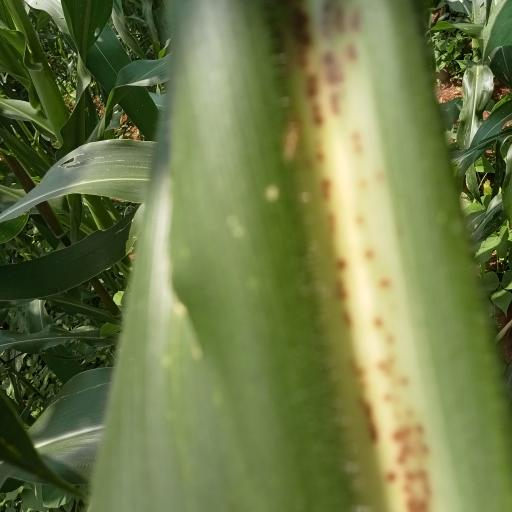Corn_Brown_Spots: (135, 0, 501, 512)
